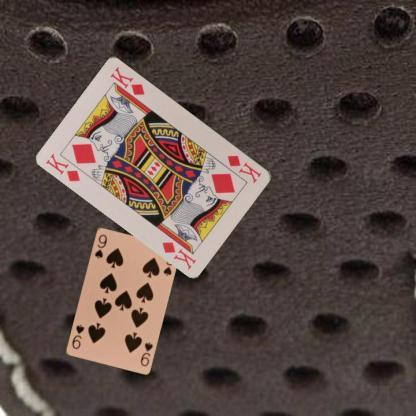9s: (138, 339, 154, 368), (92, 232, 108, 259)
Kd: (43, 150, 82, 184), (225, 152, 263, 185)
